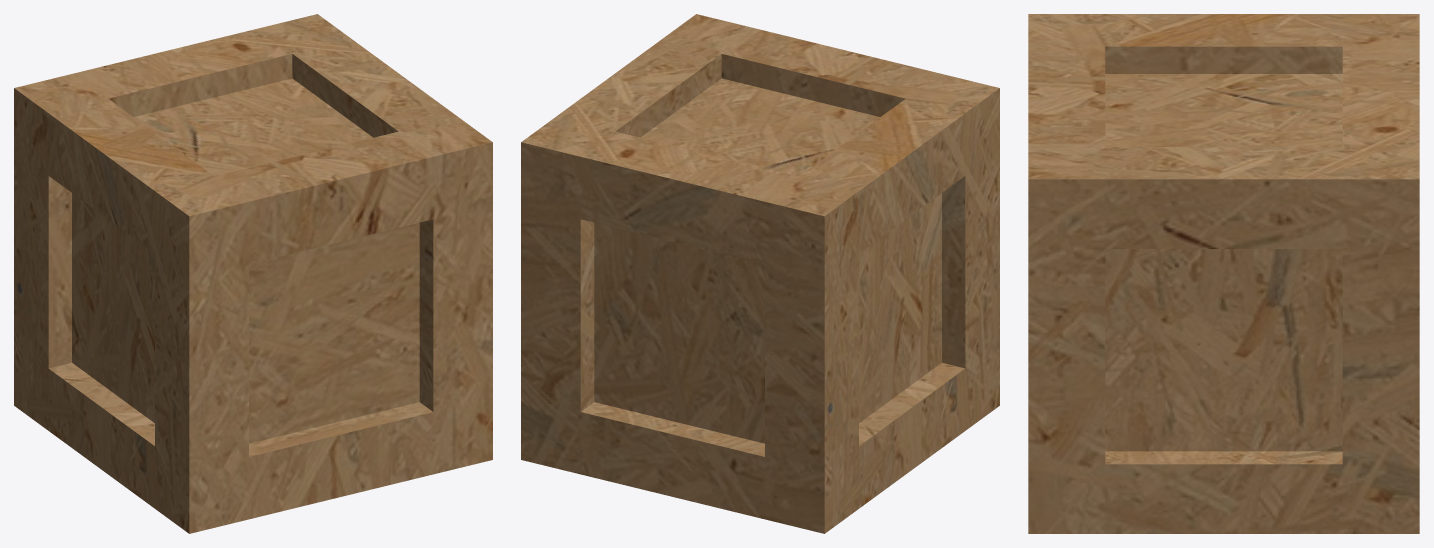
File: gltf_problems_2.glb
The picture shows the model from 3 angles, left to right: view 1: azimuth 30°, elevation 25°; view 2: azimuth 150°, elevation 25°; view 3: azimuth 270°, elevation 25°; orthographic projection. The views are drawn at different scales.
Visible parts, largest first — view 1: Cube; view 2: Cube; view 3: Cube.
Part boxes in pixels (<box>): Cube: <box>14,14,492,533</box>; Cube: <box>521,14,999,533</box>; Cube: <box>1028,14,1419,533</box>.
Size of the model in its own units: 15.93 by 15.93 by 15.93.
Materials: 1 (1 with a texture image).
